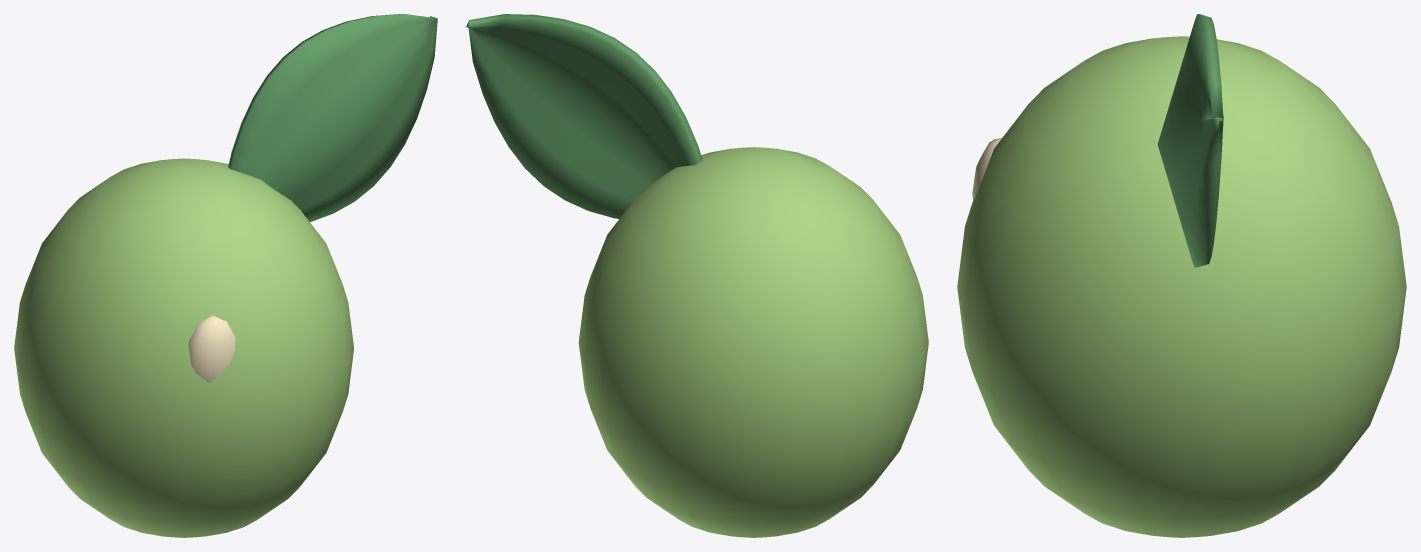
The model's file is Seed.fbx.
3 views of the same model, side by side, from view 1: azimuth 30°, elevation 25°; view 2: azimuth 150°, elevation 25°; view 3: azimuth 270°, elevation 25° (orthographic). The views are drawn at different scales.
Visible parts, largest first — view 1: Green seed, Seed wing, Soft seed highlight; view 2: Green seed, Seed wing; view 3: Green seed, Seed wing, Soft seed highlight.
Part boxes in pixels (x1,y1,x2,y2): Green seed: (14, 158, 353, 537); Seed wing: (228, 14, 437, 221); Soft seed highlight: (188, 315, 235, 383); Green seed: (578, 147, 928, 537); Seed wing: (466, 14, 702, 218); Green seed: (957, 36, 1406, 537); Seed wing: (1157, 14, 1223, 267); Soft seed highlight: (972, 138, 1001, 199).
Bounding box in the file's own units: 42 × 44.25 × 30.
